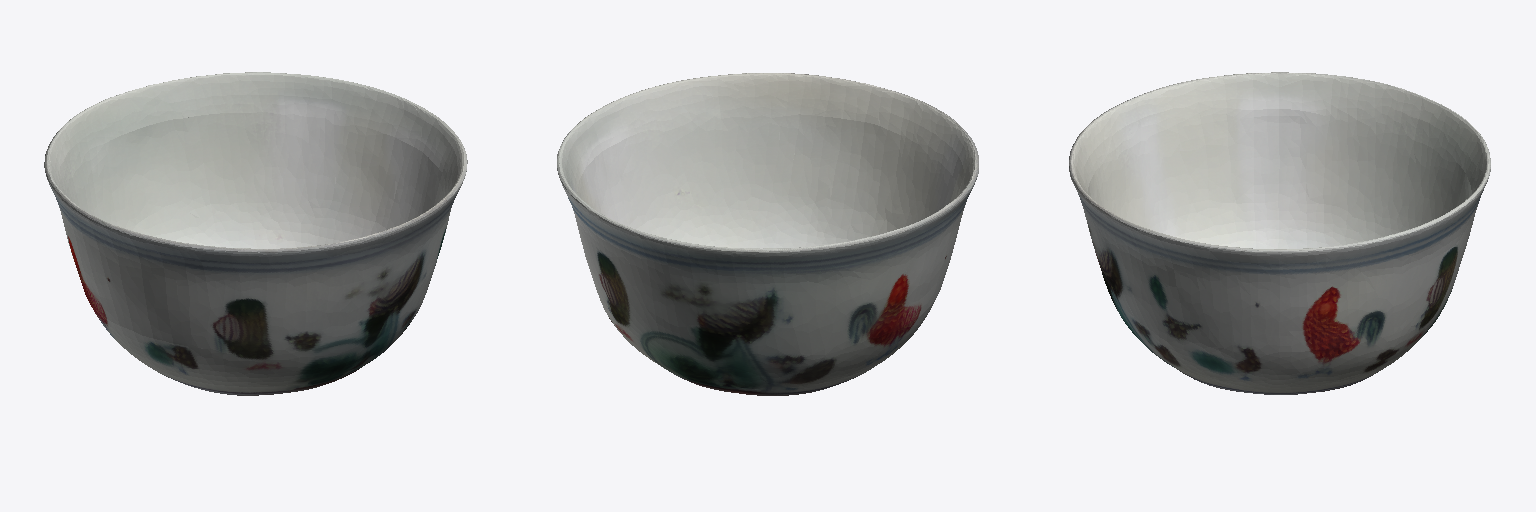
The picture shows the model from 3 angles: view 1: azimuth 30°, elevation 25°; view 2: azimuth 150°, elevation 25°; view 3: azimuth 270°, elevation 25°; orthographic projection.
Visible parts, largest first — view 1: geometry_0; view 2: geometry_0; view 3: geometry_0.
Part boxes in pixels (bbox=[...]): geometry_0: bbox=[44, 72, 467, 395]; geometry_0: bbox=[557, 73, 978, 395]; geometry_0: bbox=[1069, 72, 1490, 394].
Bounding box in the file's own units: 0.7684 × 0.3847 × 0.7685.
Materials: 1 (1 with a texture image).